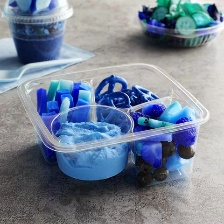plastic_box: (11, 57, 216, 199), (0, 0, 78, 69), (131, 0, 224, 52)
